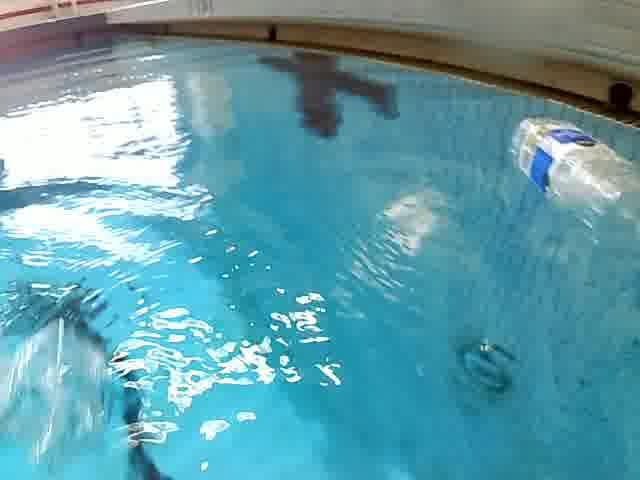Bottle: (508, 112, 640, 249)
